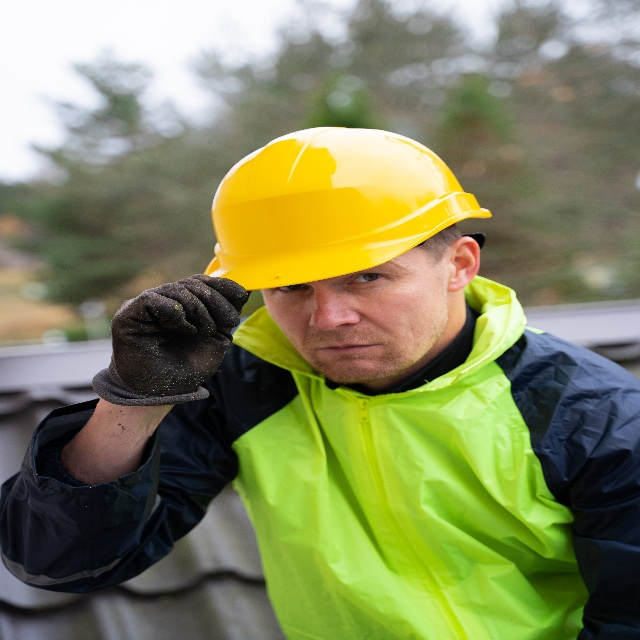Guantes: (106, 279, 245, 398)
